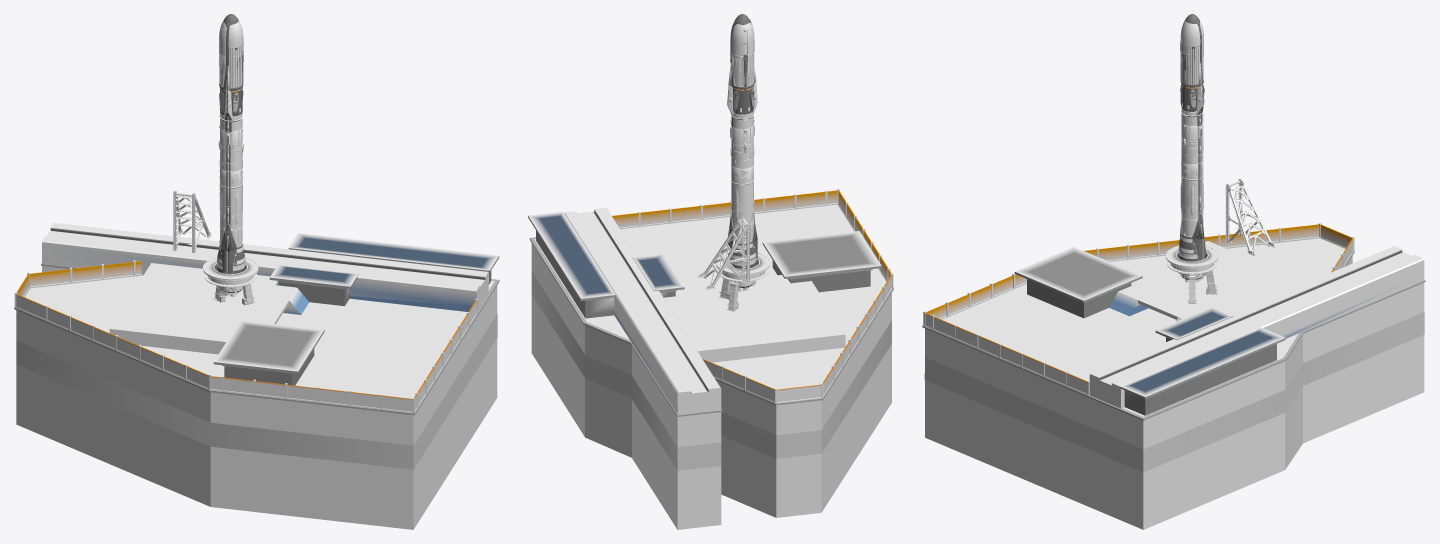
File: cell_150_91.fbx
3 views of the same model, side by side, from view 1: azimuth 30°, elevation 25°; view 2: azimuth 150°, elevation 25°; view 3: azimuth 270°, elevation 25° (orthographic). The views are drawn at different scales.
Parts seen in each view (by area): view 1: SM_I_RoadFacility_Ground_L_15B.mo.001, SM_I_RoadFacility_Ground_L_15B_Decal.mo.001, SM_H_Industrial_ISS_RocketBody_02.mo.001, SM_H_Industrial_ISS_LaunchLauncher_01K.mo, SM_H_Industrial_ISS_LaunchLauncher_02.mo.001; view 2: SM_I_RoadFacility_Ground_L_15B.mo.001, SM_I_RoadFacility_Ground_L_15B_Decal.mo.001, SM_H_Industrial_ISS_RocketBody_02.mo.001, SM_H_Industrial_ISS_LaunchLauncher_01K.mo, SM_H_Industrial_ISS_LaunchLauncher_02.mo.001; view 3: SM_I_RoadFacility_Ground_L_15B.mo.001, SM_I_RoadFacility_Ground_L_15B_Decal.mo.001, SM_H_Industrial_ISS_RocketBody_02.mo.001, SM_H_Industrial_ISS_LaunchLauncher_01K.mo, SM_H_Industrial_ISS_LaunchLauncher_02.mo.001.
Boxes of the visible parts, x1,y1,x2,y2 form: SM_I_RoadFacility_Ground_L_15B.mo.001: (14, 222, 499, 529); SM_I_RoadFacility_Ground_L_15B_Decal.mo.001: (16, 313, 497, 469); SM_H_Industrial_ISS_RocketBody_02.mo.001: (217, 14, 245, 296); SM_H_Industrial_ISS_LaunchLauncher_01K.mo: (173, 191, 211, 253); SM_H_Industrial_ISS_LaunchLauncher_02.mo.001: (203, 257, 258, 287); SM_I_RoadFacility_Ground_L_15B.mo.001: (528, 188, 893, 529); SM_I_RoadFacility_Ground_L_15B_Decal.mo.001: (531, 271, 891, 470); SM_H_Industrial_ISS_RocketBody_02.mo.001: (727, 14, 757, 291); SM_H_Industrial_ISS_LaunchLauncher_01K.mo: (697, 216, 749, 289); SM_H_Industrial_ISS_LaunchLauncher_02.mo.001: (715, 253, 770, 281); SM_I_RoadFacility_Ground_L_15B.mo.001: (922, 222, 1425, 529); SM_I_RoadFacility_Ground_L_15B_Decal.mo.001: (924, 312, 1424, 472); SM_H_Industrial_ISS_RocketBody_02.mo.001: (1178, 14, 1206, 282); SM_H_Industrial_ISS_LaunchLauncher_01K.mo: (1225, 178, 1275, 255); SM_H_Industrial_ISS_LaunchLauncher_02.mo.001: (1165, 245, 1218, 274).
Bounding box in the file's own units: 143 × 147 × 166.
